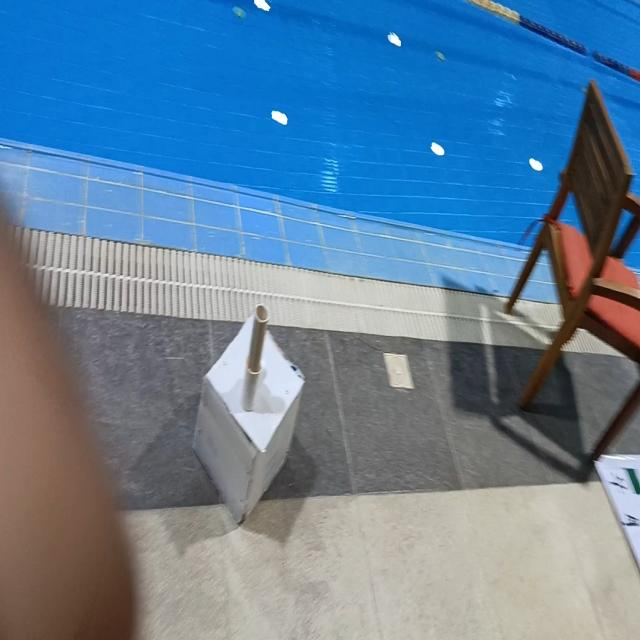Cube: (191, 305, 305, 523)
